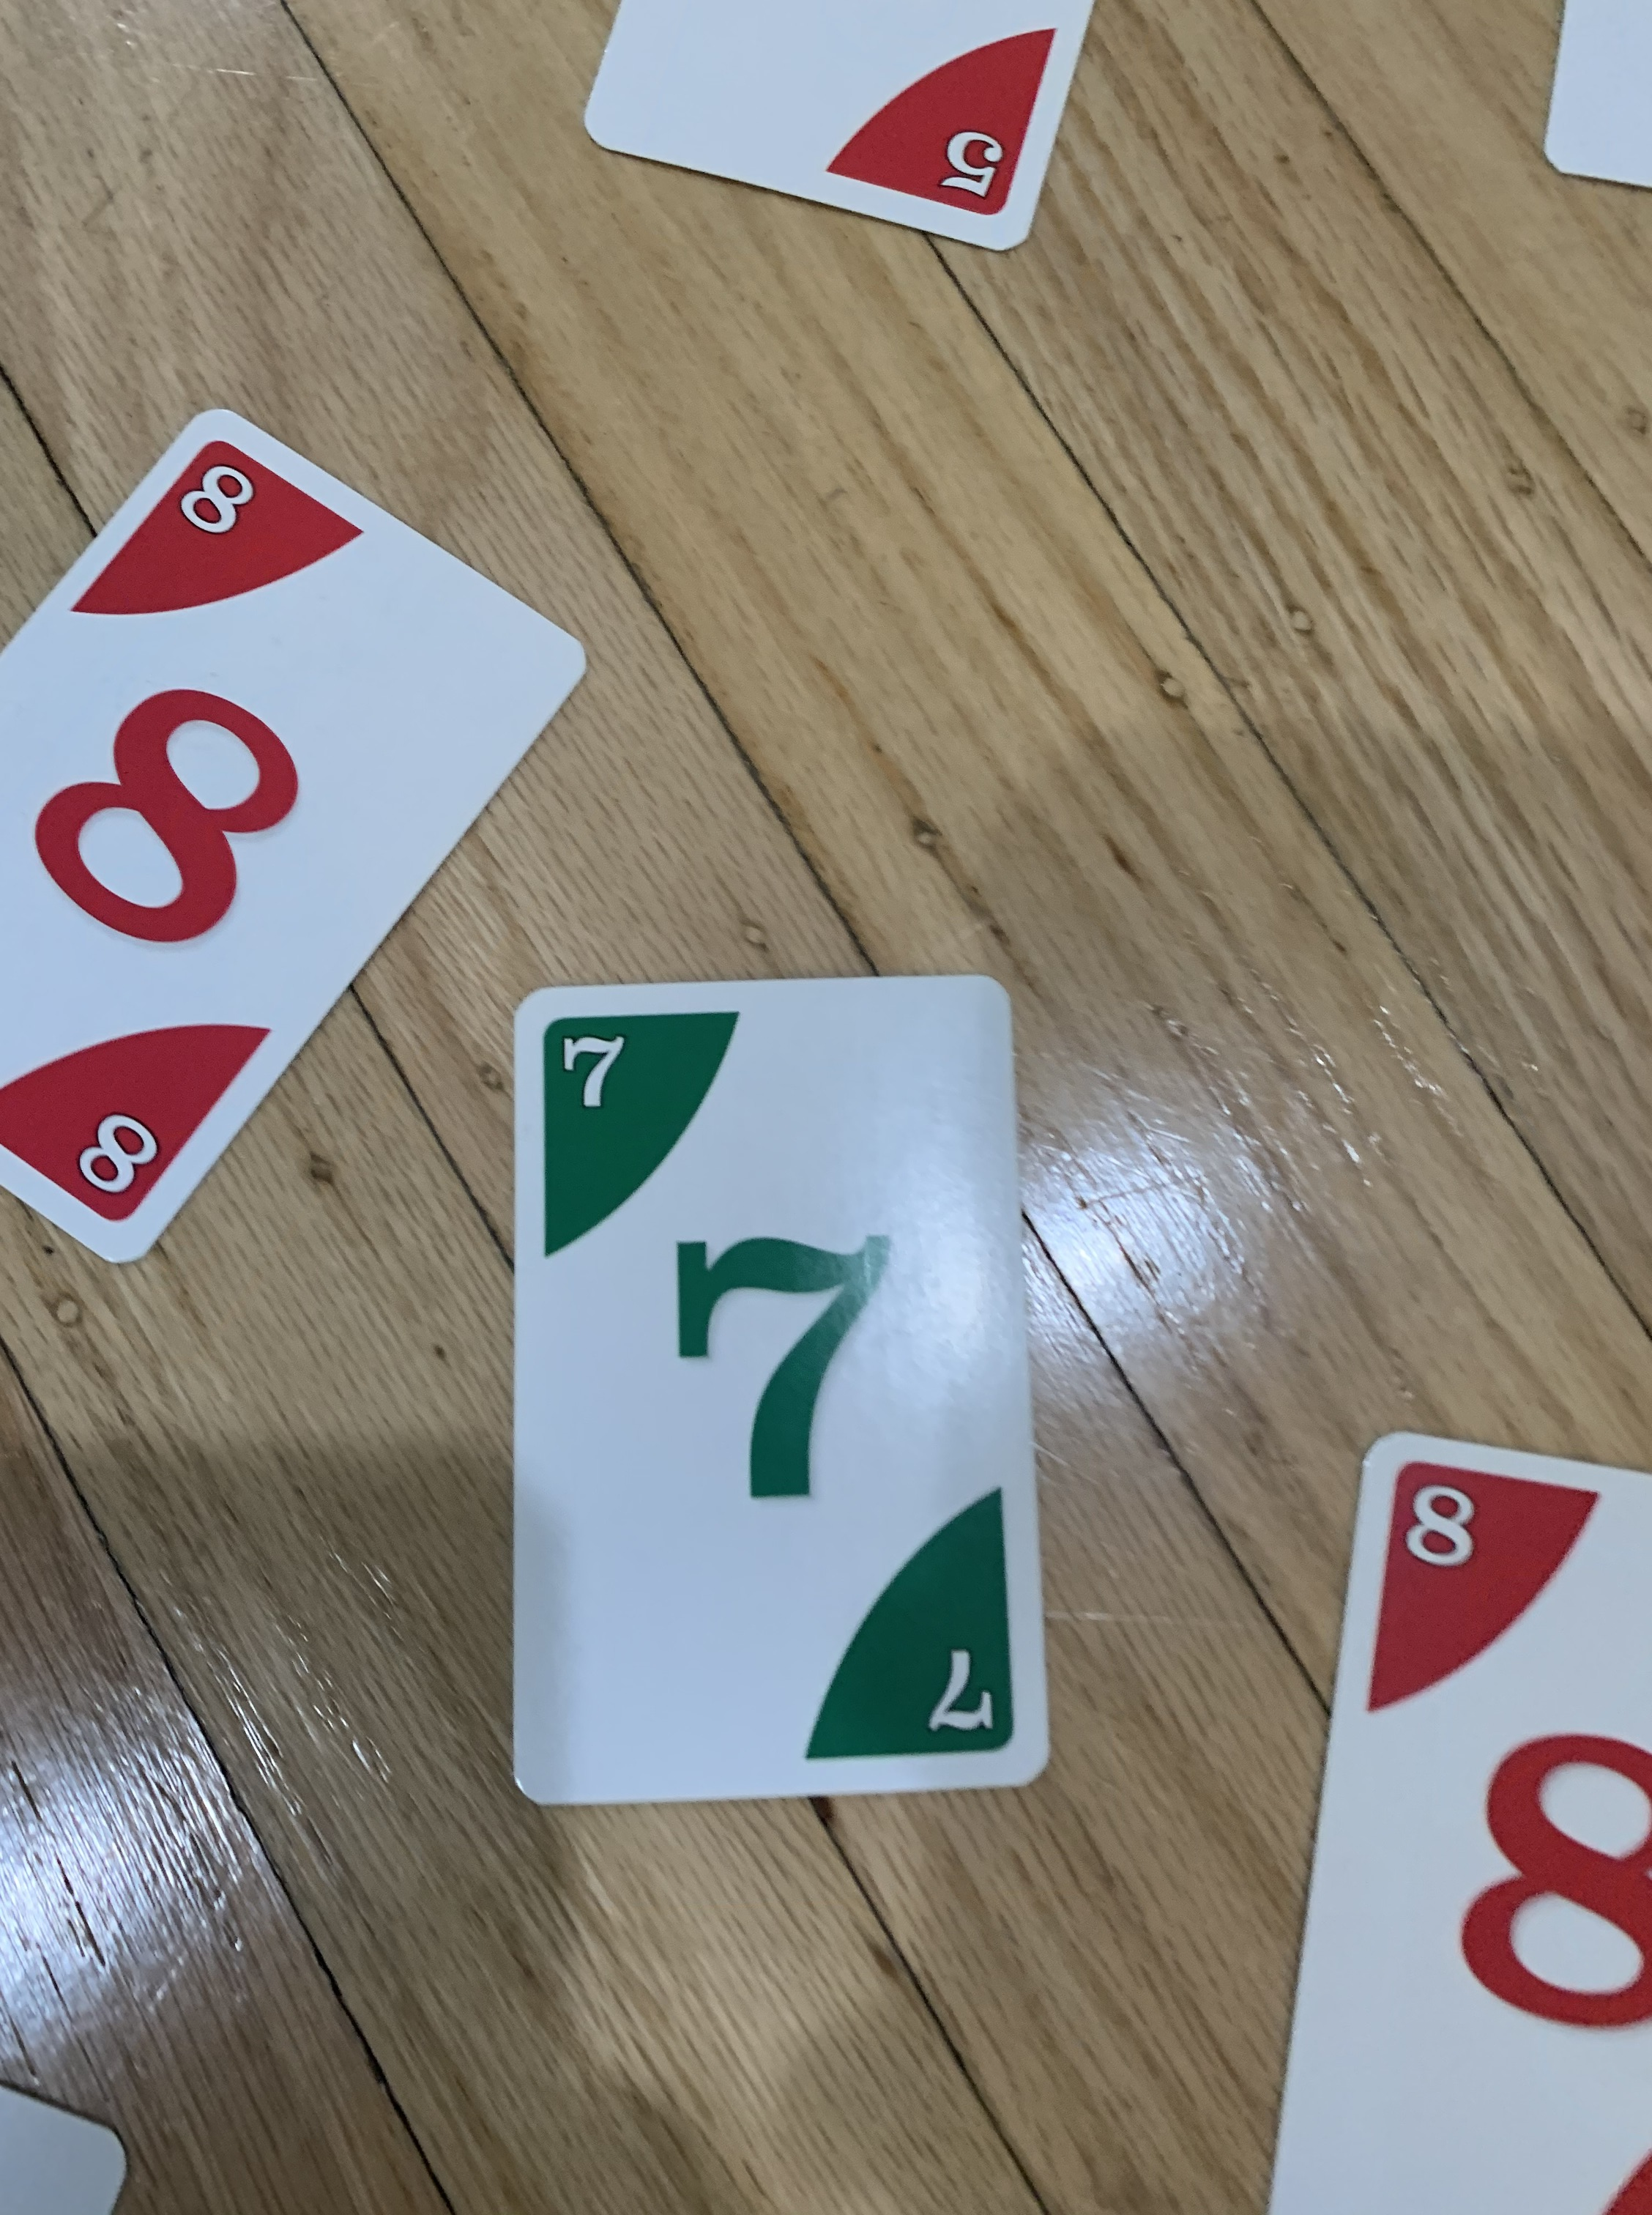eight: (3, 398, 606, 1293)
seven: (482, 951, 1074, 1817)
